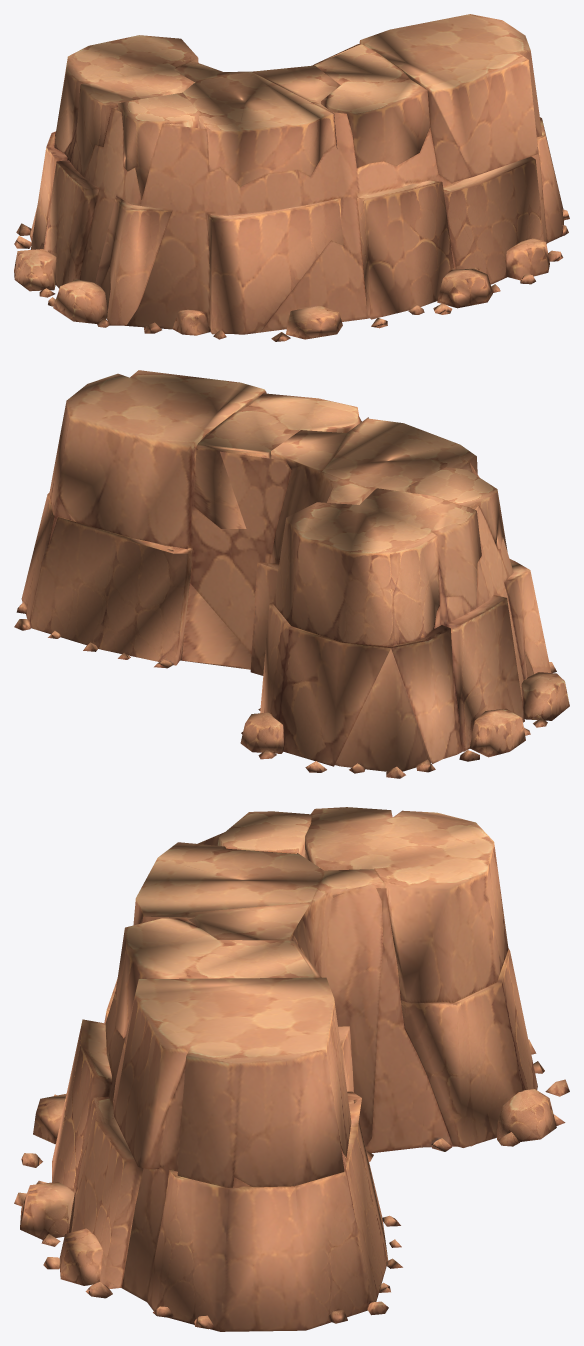
The model's file is Meshy_AI_Layered_Sandstone_Blu_0907111542_texture.fbx.
3 views of the same model, one above another, from view 1: azimuth 30°, elevation 25°; view 2: azimuth 150°, elevation 25°; view 3: azimuth 270°, elevation 25° (orthographic). The views are drawn at different scales.
Visible parts, largest first — view 1: mesh_node; view 2: mesh_node; view 3: mesh_node.
Part boxes in pixels (x1=…): mesh_node: x1=14, y1=14, x2=569, y2=341; mesh_node: x1=14, y1=370, x2=569, y2=778; mesh_node: x1=14, y1=807, x2=569, y2=1331.
Bounding box in the file's own units: 1347 × 500 × 1003.
1 material, 1 textured.
